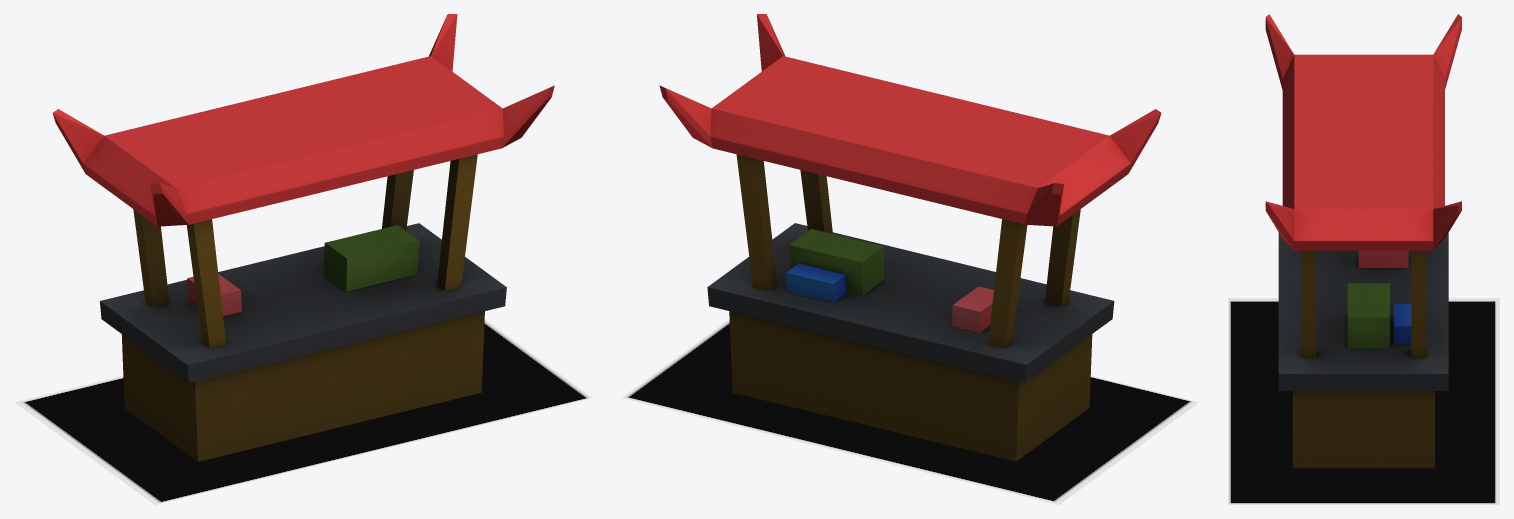
Rendered from 2x1_market_stand.FBX.
The picture shows the model from 3 angles, left to right: view 1: azimuth 30°, elevation 25°; view 2: azimuth 150°, elevation 25°; view 3: azimuth 270°, elevation 25°; orthographic projection. The views are drawn at different scales.
Parts seen in each view (by area): view 1: 2x1_market_stand, 2x1_market_stand_soft_shadow; view 2: 2x1_market_stand, 2x1_market_stand_soft_shadow; view 3: 2x1_market_stand, 2x1_market_stand_soft_shadow.
Boxes of the visible parts, box(x1,y1,x2,y2) form: 2x1_market_stand: box(53, 14, 554, 461); 2x1_market_stand_soft_shadow: box(15, 319, 592, 504); 2x1_market_stand: box(659, 14, 1161, 461); 2x1_market_stand_soft_shadow: box(621, 319, 1198, 504); 2x1_market_stand: box(1265, 14, 1461, 468); 2x1_market_stand_soft_shadow: box(1228, 298, 1499, 504).
Bounding box in the file's own units: 2268 × 1505 × 1258.
